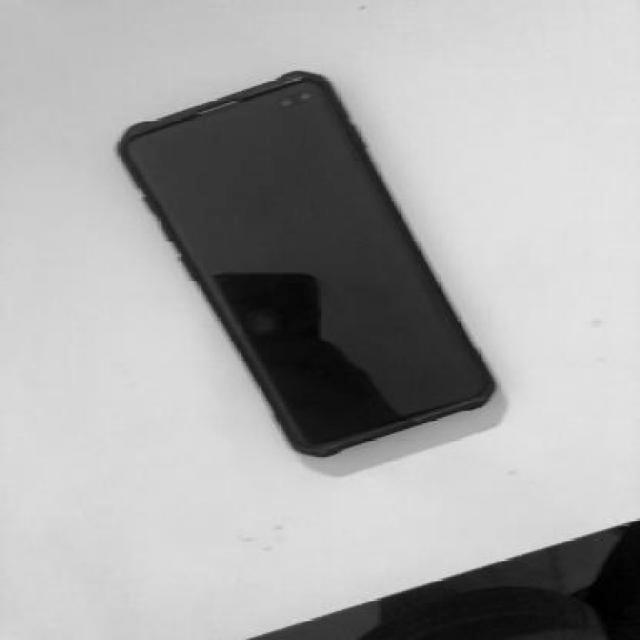fake: (115, 70, 500, 458)
